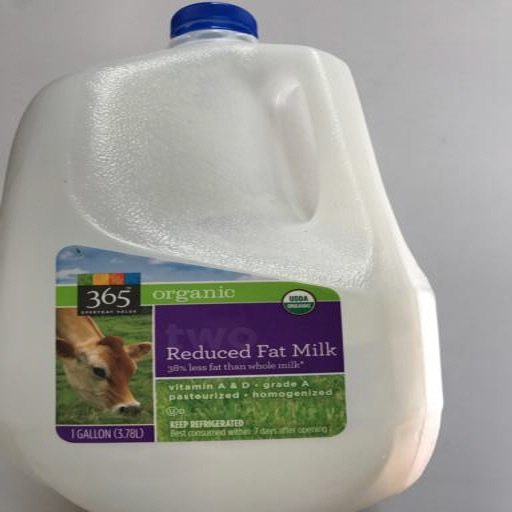Plastic_1: (3, 3, 445, 506)
